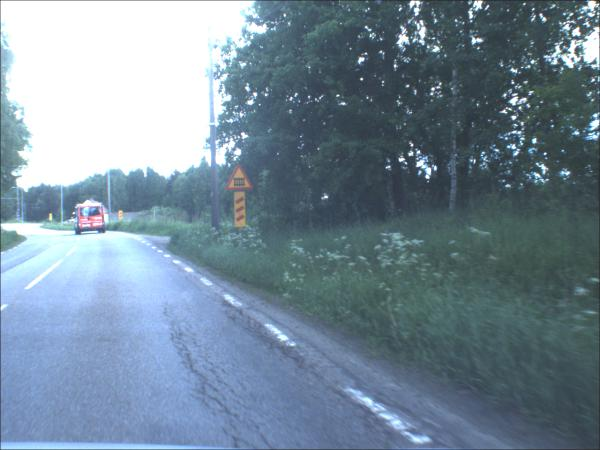WARNING: (226, 166, 255, 192)
